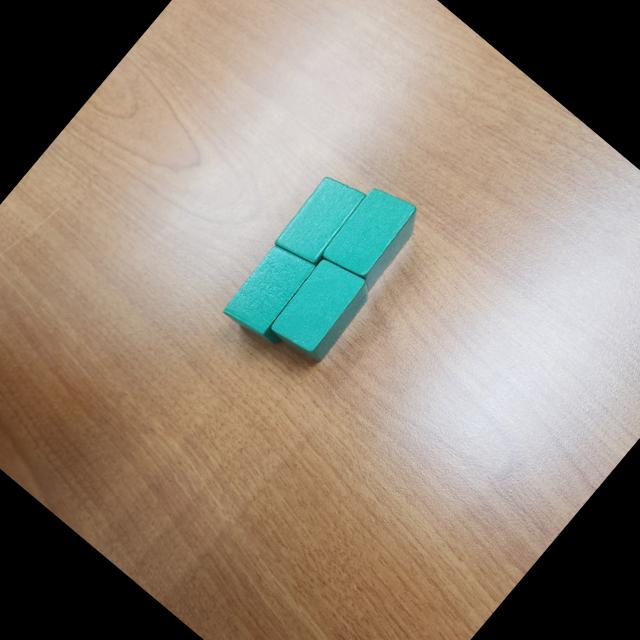green: (262, 248, 380, 370), (317, 177, 430, 294), (218, 235, 331, 352), (270, 164, 374, 274)
